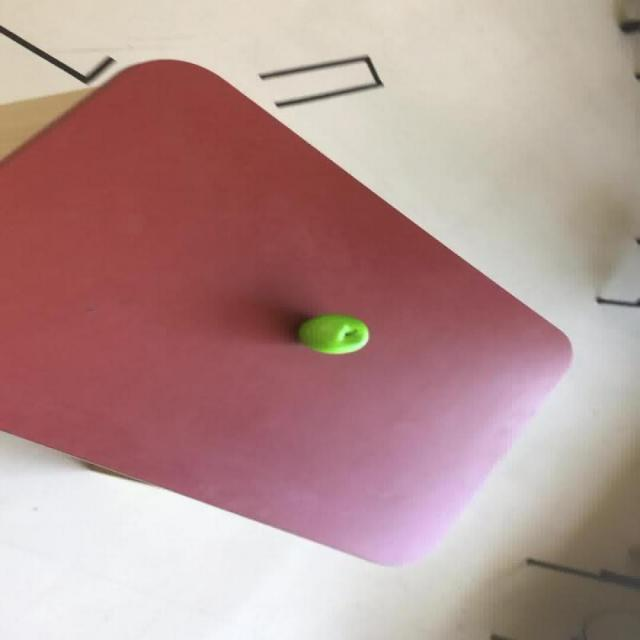Apple: (296, 313, 369, 354)
